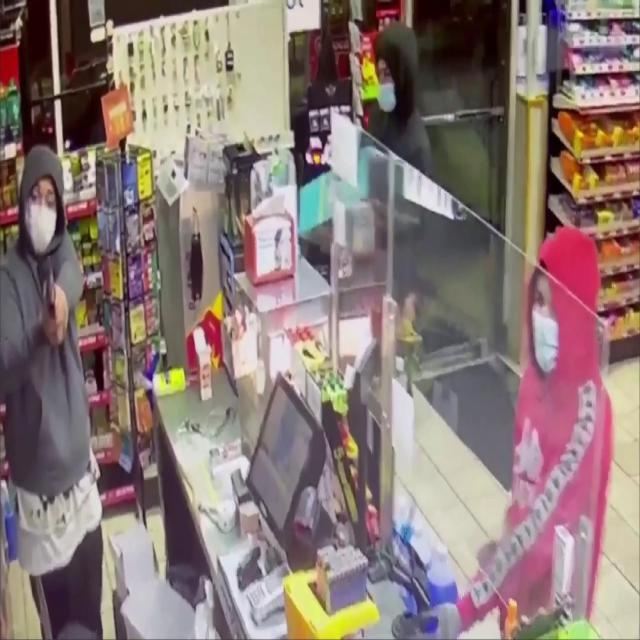weapon: (43, 256, 60, 321)
